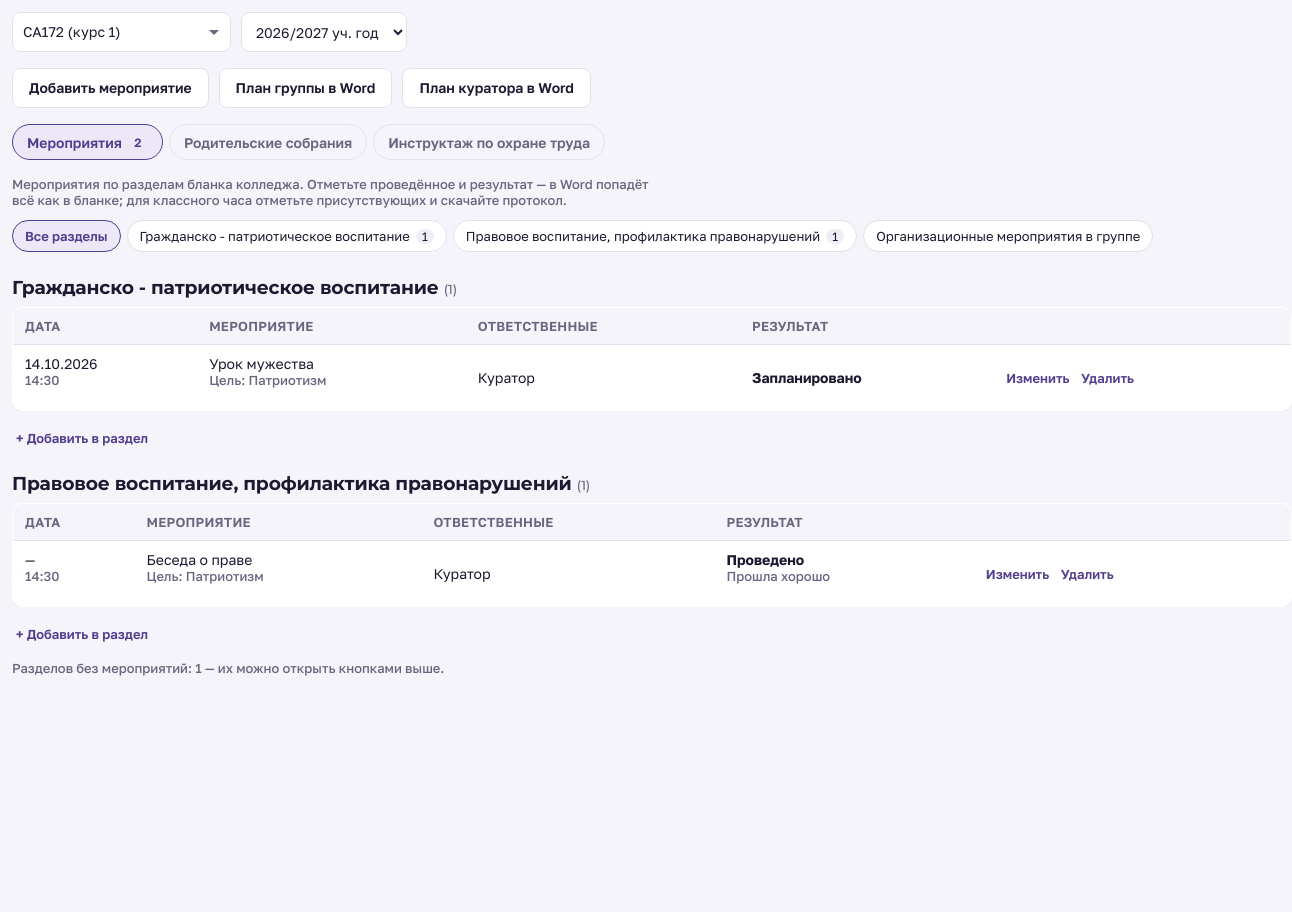
Test: PlanPage — план воспитательной работы группы › показывает разделы бланка и мероприятия: дата, цель, результат, отметка о выполнении
Click the button "Организационные мероприятия в группе" at (1008, 236), box [863,220,1153,252]
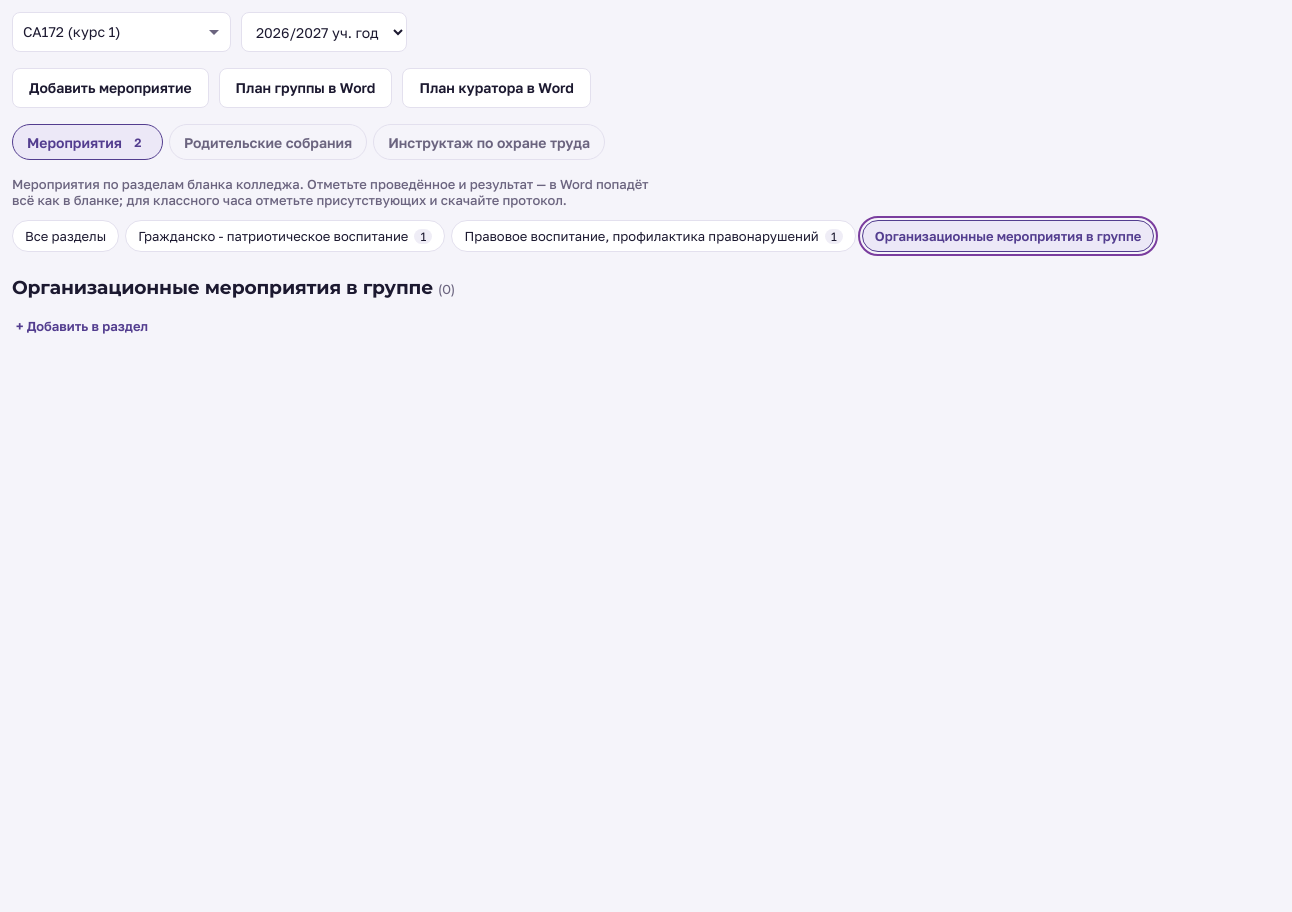
Expected: the heading "Организационные мероприятия в группе (0)" is shown, [12,276,455,299]
Expected: the text "Урок мужества" is gone
